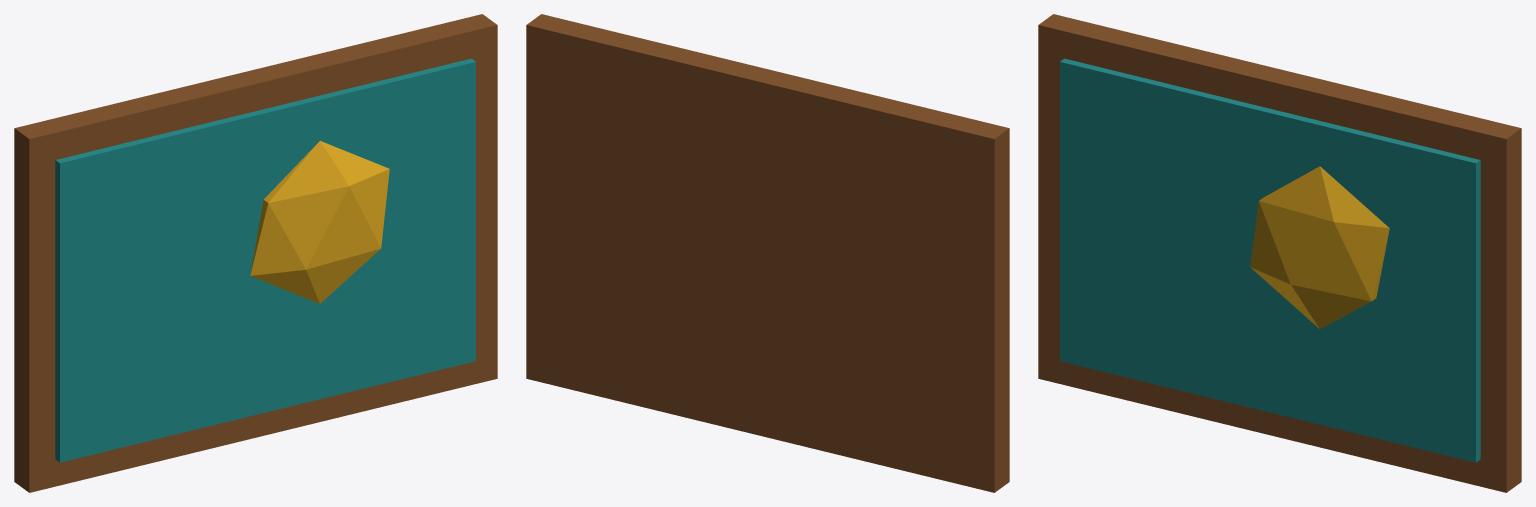
File: picture_frame.glb
The picture shows the model from 3 angles, left to right: view 1: azimuth 30°, elevation 25°; view 2: azimuth 150°, elevation 25°; view 3: azimuth 330°, elevation 25°; orthographic projection.
Visible parts, largest first — view 1: picture_frame; view 2: picture_frame; view 3: picture_frame.
Boxes of the visible parts, x1,y1,x2,y2 form: picture_frame: (14, 14, 497, 492); picture_frame: (526, 14, 1009, 492); picture_frame: (1038, 14, 1521, 492).
Bounding box in the file's own units: 0.9 × 0.65 × 0.0905.
